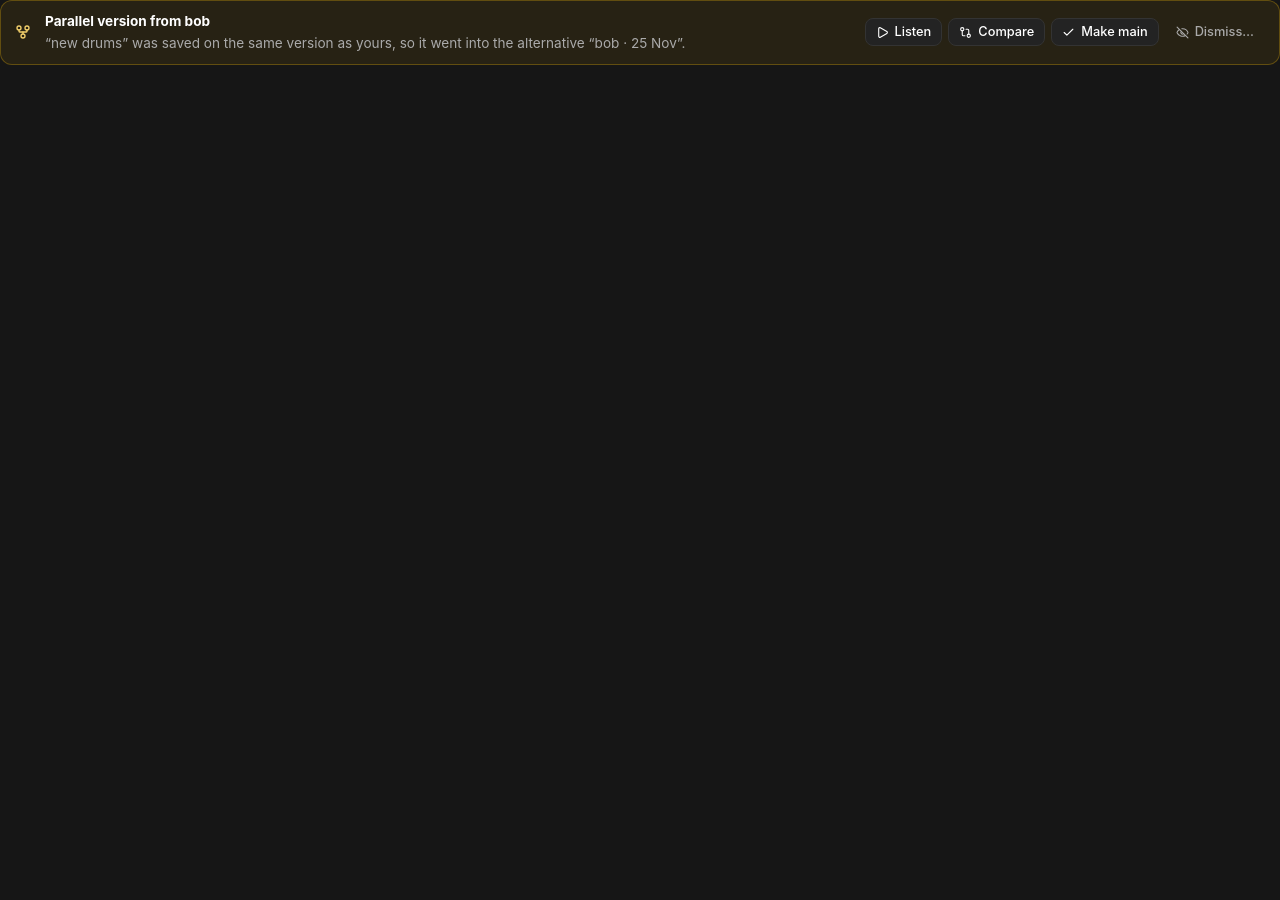
Test: ParallelVersionBanner › Dismiss… › shows a failure in the dialog
Click the button "Dismiss…" at (1215, 32), box [1165,18,1265,46]
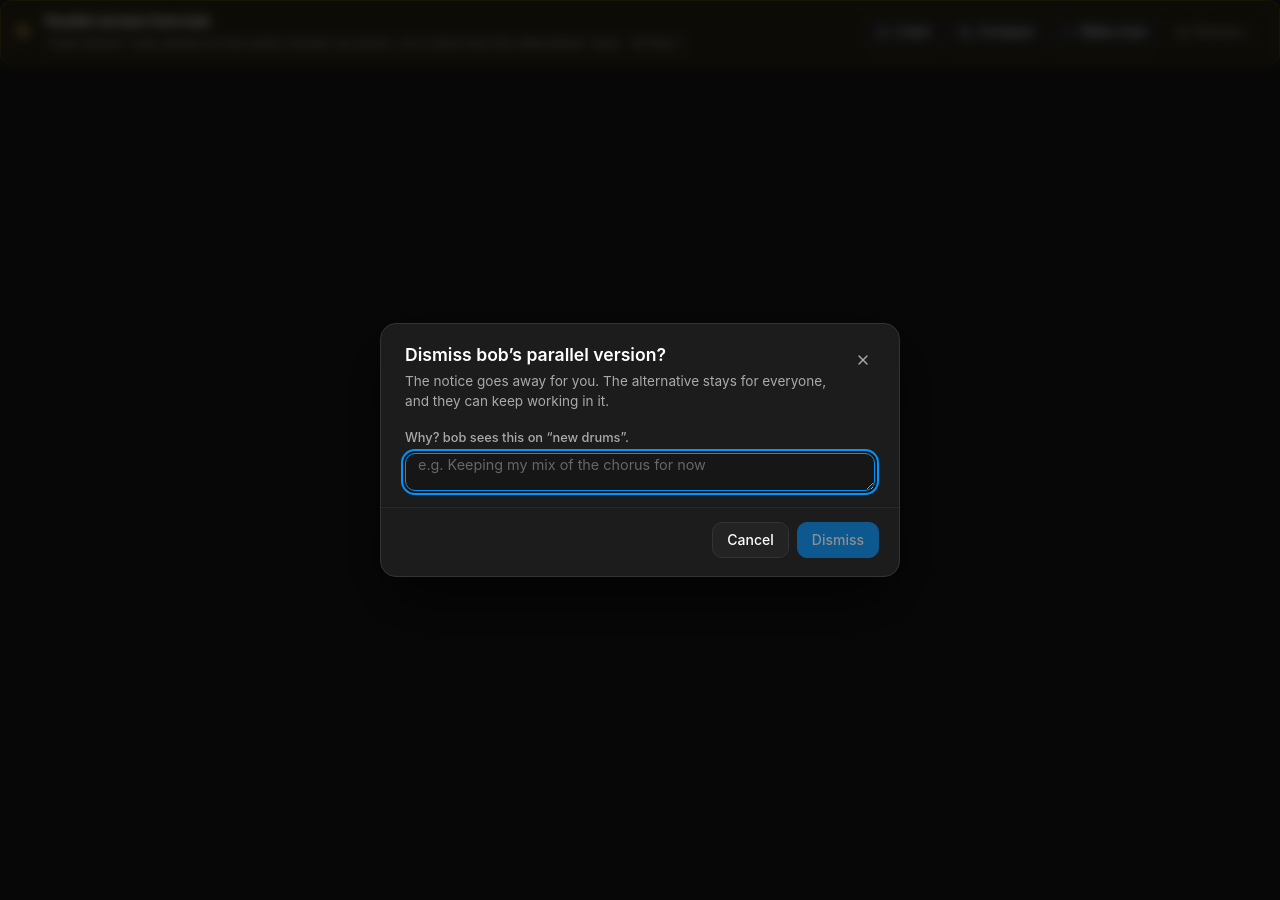
Type "x" into the text box labelled "Why? bob sees this on “new drums”." at (640, 472), box [405,453,875,491]
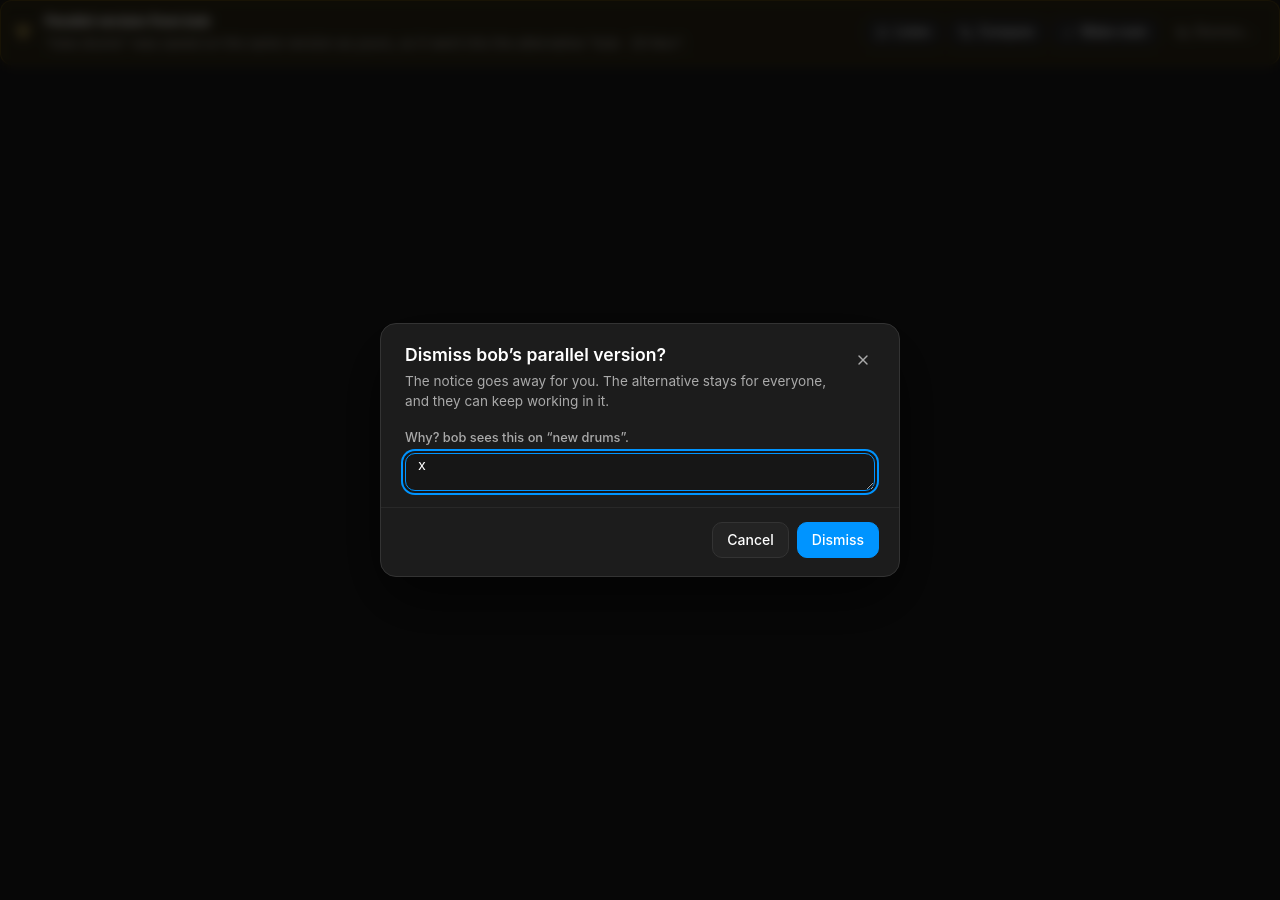
Click the button "Dismiss" at (838, 540), box [797,522,879,558]
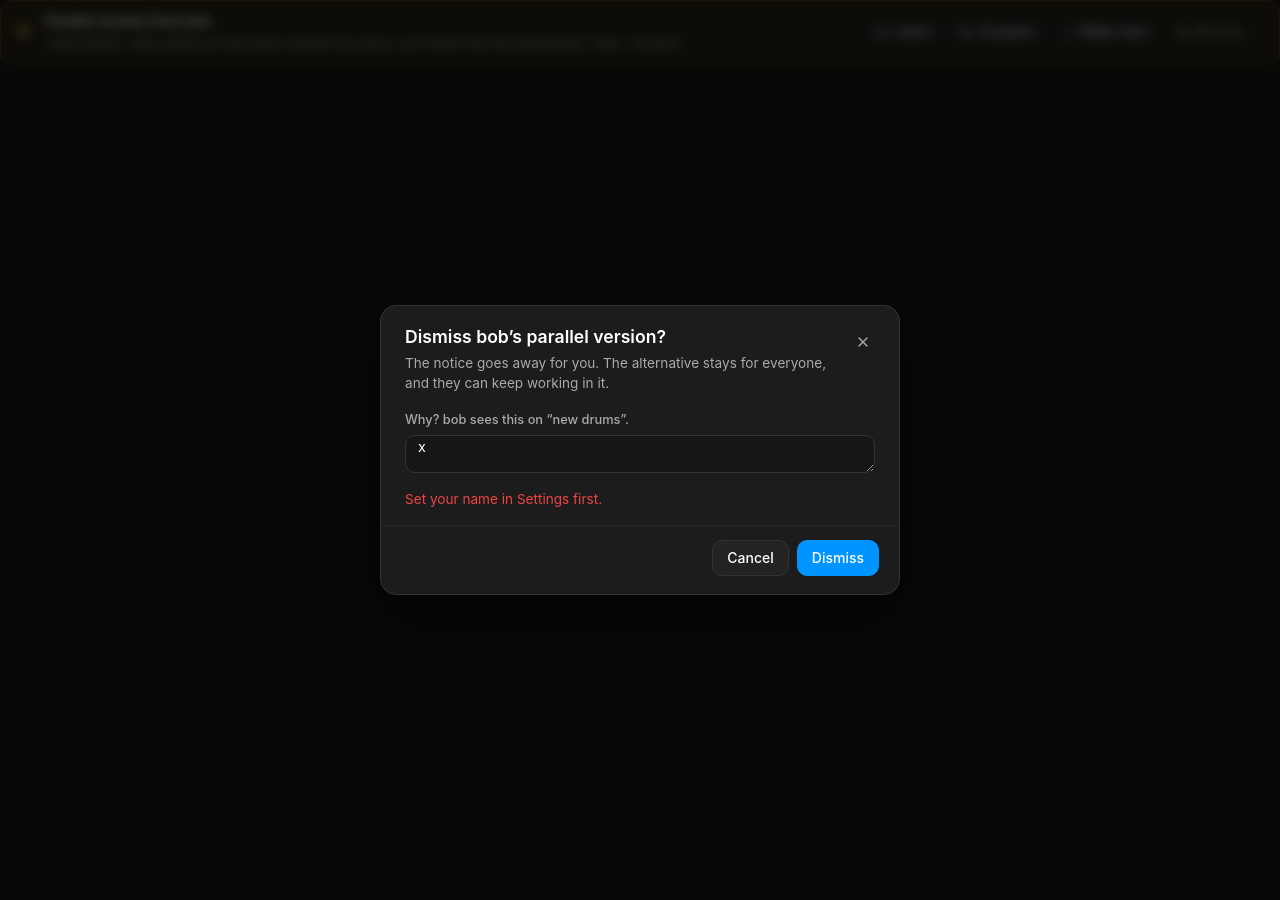
Expected: the message reads "Set your name in Settings first.", [405,491,602,507]
